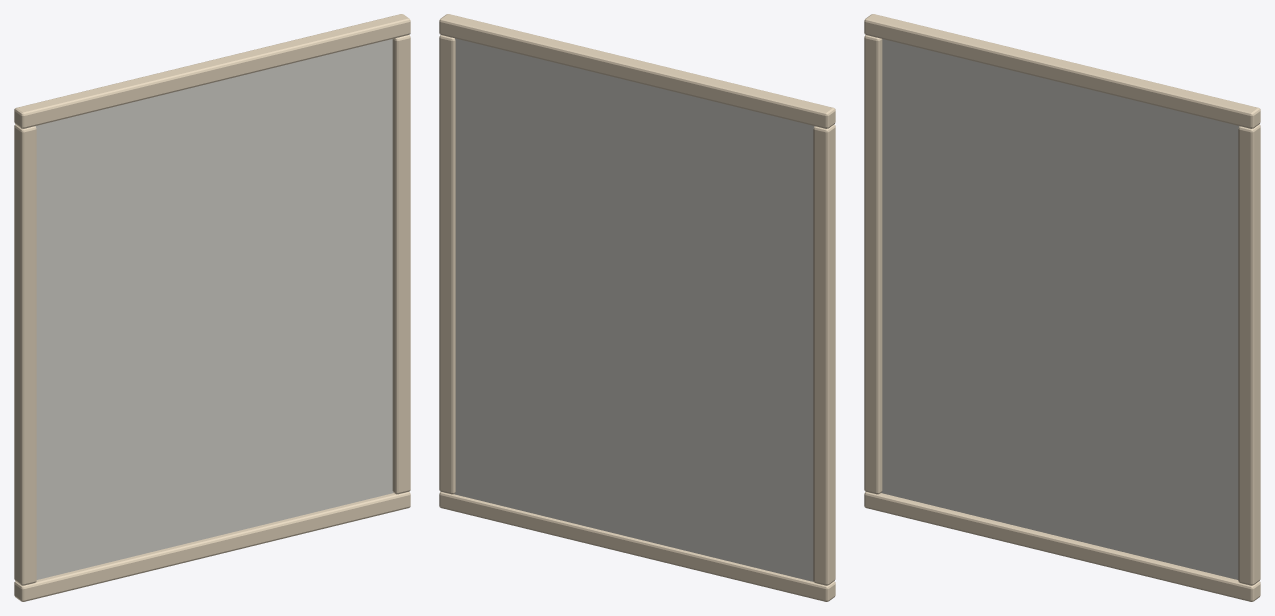
The model's file is mo_art_small.glb.
The picture shows the model from 3 angles, left to right: view 1: azimuth 30°, elevation 25°; view 2: azimuth 150°, elevation 25°; view 3: azimuth 330°, elevation 25°; orthographic projection.
Visible parts, largest first — view 1: canvas, frame; view 2: canvas, frame; view 3: canvas, frame.
Boxes of the visible parts, <box> form: canvas: <box>35,39,393,579</box>; frame: <box>14,14,410,601</box>; canvas: <box>454,38,814,581</box>; frame: <box>439,14,835,601</box>; canvas: <box>881,39,1239,579</box>; frame: <box>864,14,1260,601</box>.
Bounding box in the file's own units: 0.5 × 0.6 × 0.02.
